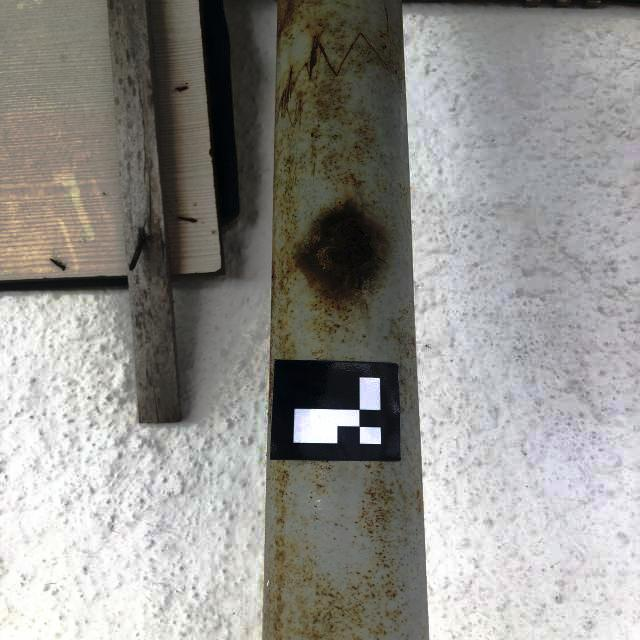Corrosion: (264, 462, 406, 640), (291, 48, 377, 188), (296, 201, 379, 317), (349, 464, 407, 588), (303, 30, 393, 82), (272, 151, 295, 294), (277, 0, 312, 41), (278, 66, 300, 117), (276, 315, 299, 358), (308, 460, 335, 492), (397, 484, 422, 516), (310, 318, 341, 339), (130, 240, 146, 271), (47, 256, 68, 270), (310, 348, 327, 359), (176, 216, 196, 222), (176, 85, 190, 91), (310, 132, 315, 139)
